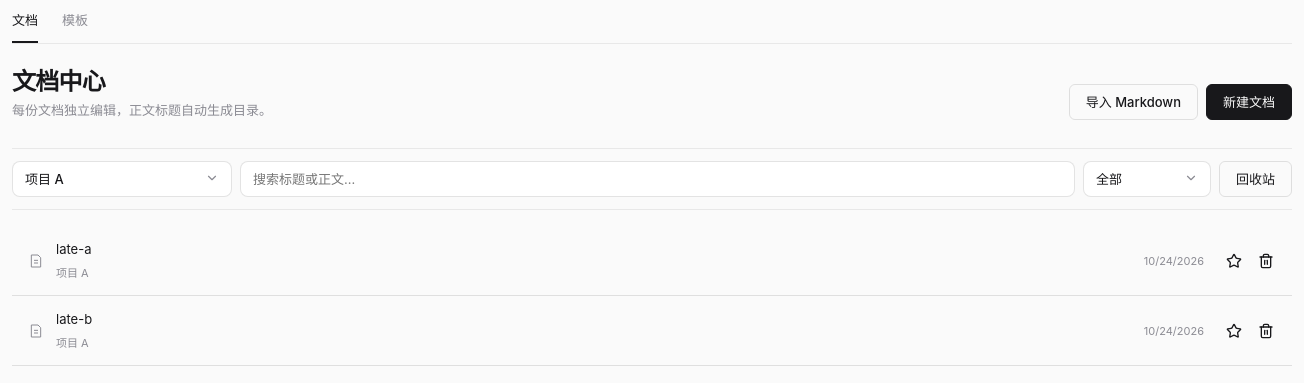
Test: does not let a late initial preferences response undo a successful favorite
The image size is (1304, 383).
What coordinates should you click on to do the following:
click the button named "收藏 late-a"
I would click on:
 (1234, 261)
Its box is [1220,247,1248,275].
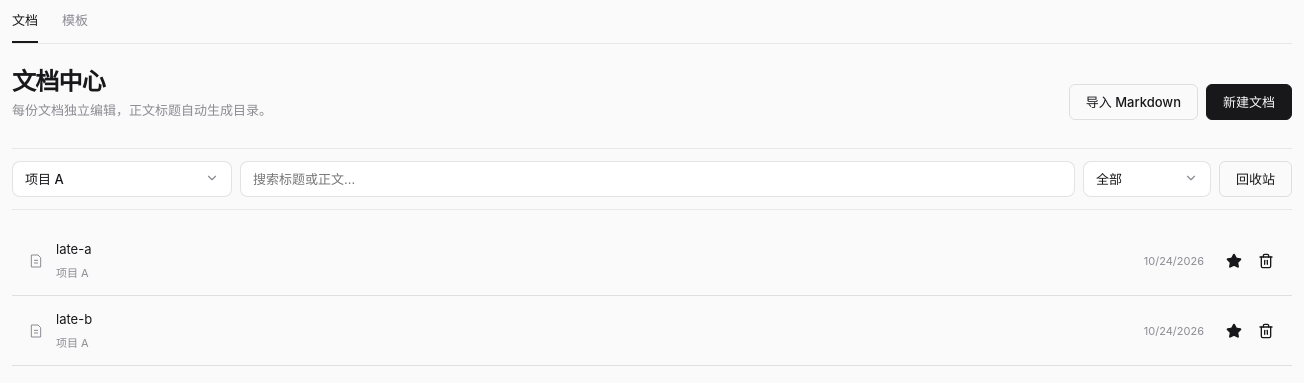
Expected: the button named "取消收藏 late-b" is shown, [1220,317,1248,345]
Expected: the button named "取消收藏 late-a" is shown, [1220,247,1248,275]
